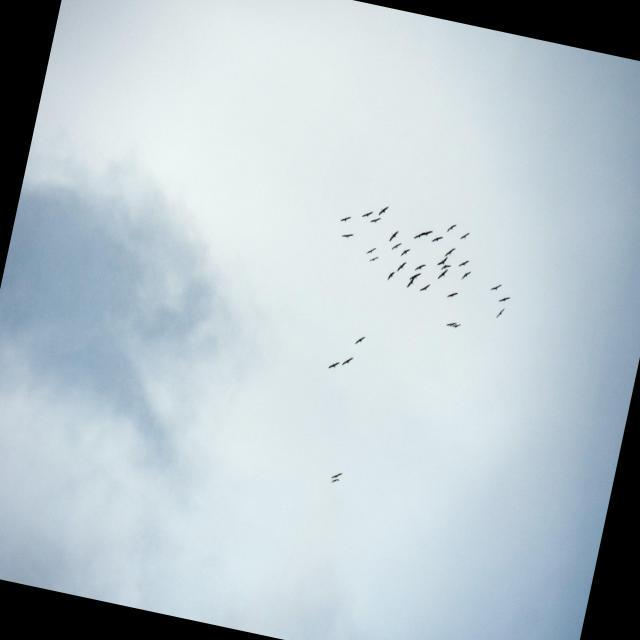bird: (340, 354, 354, 368), (418, 226, 433, 239), (326, 358, 340, 371), (412, 229, 426, 242), (436, 267, 449, 281), (443, 245, 456, 259), (430, 233, 443, 246), (435, 254, 448, 267), (459, 268, 471, 282), (387, 229, 399, 243), (395, 259, 407, 273), (407, 270, 421, 282), (419, 280, 431, 294), (354, 334, 367, 346), (497, 292, 510, 304), (489, 281, 502, 293), (456, 256, 469, 268), (399, 245, 411, 258), (413, 261, 426, 273), (330, 470, 344, 481), (378, 203, 389, 217), (405, 275, 416, 289), (360, 209, 373, 220), (445, 290, 458, 301), (439, 261, 452, 272), (340, 230, 354, 240), (446, 222, 457, 234), (340, 213, 352, 224), (389, 240, 401, 251), (495, 306, 505, 319), (460, 229, 470, 241), (365, 246, 377, 256), (386, 270, 396, 282), (369, 216, 381, 225), (329, 477, 340, 485), (368, 255, 379, 263), (444, 320, 456, 327), (452, 322, 462, 330)
